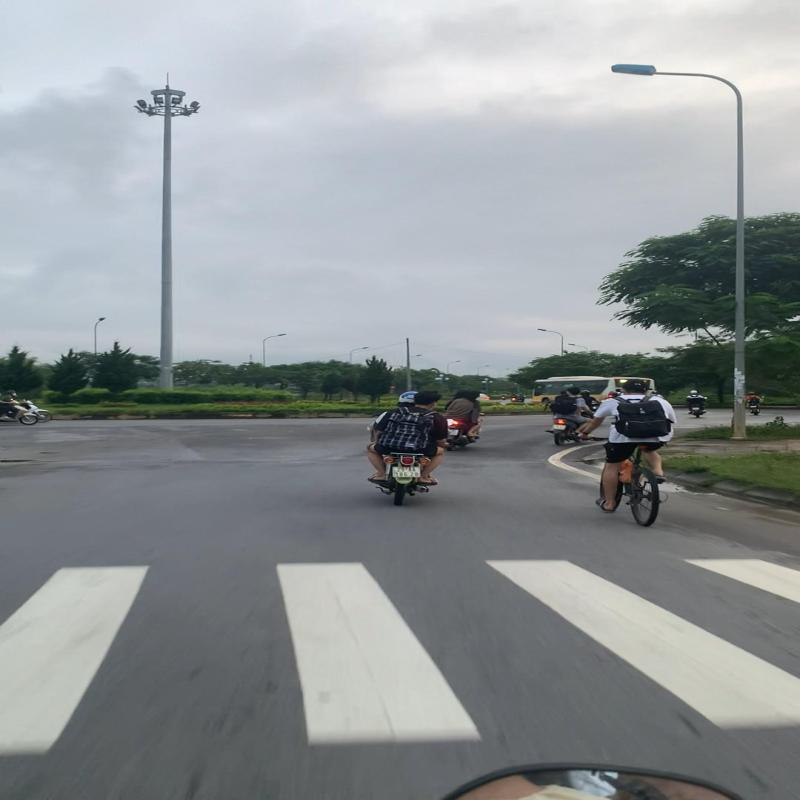helmet: (395, 389, 423, 406)
licenseplate: (390, 465, 424, 479)
motorcyclist: (360, 387, 451, 508)
nohelmet: (413, 388, 443, 408), (566, 386, 581, 397)
